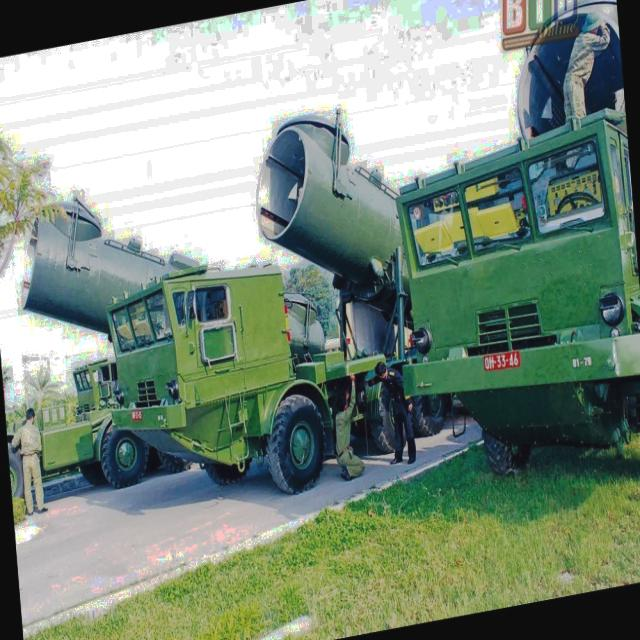license_plate: (485, 352, 522, 373), (131, 411, 144, 421)
